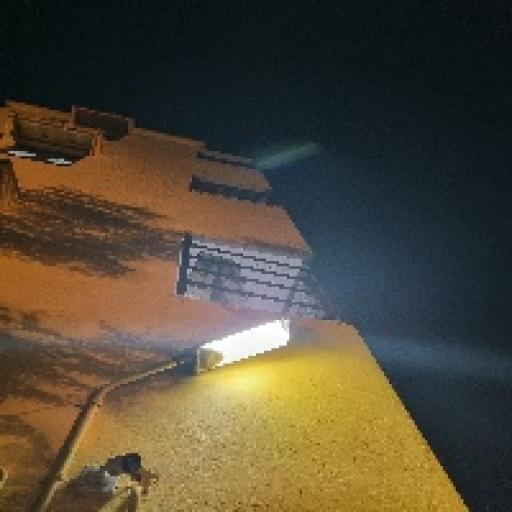Working: (180, 312, 306, 380)
